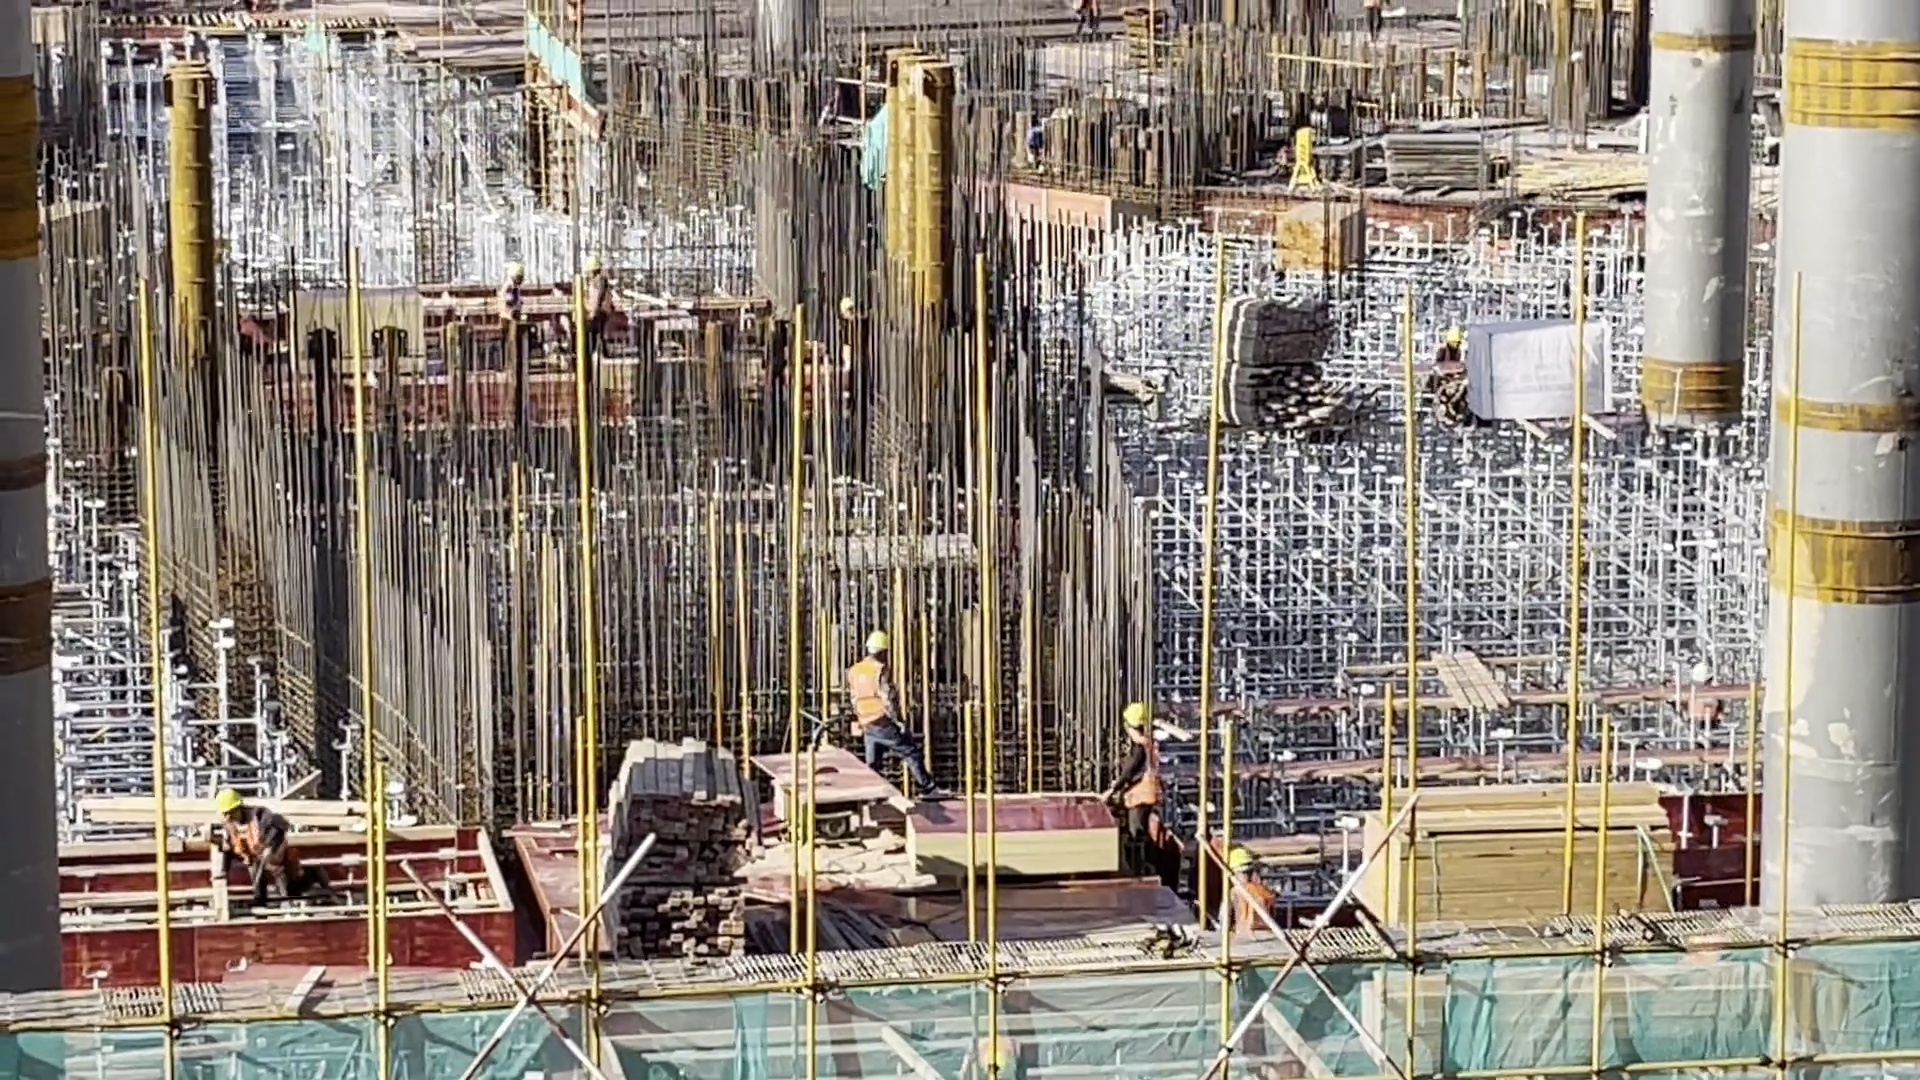board: (896, 790, 1121, 890)
ebox: (1281, 128, 1328, 194)
helmet: (214, 786, 250, 817), (1121, 703, 1155, 731), (859, 632, 895, 655), (1228, 843, 1252, 875), (585, 255, 602, 272), (1447, 326, 1464, 342), (841, 296, 855, 311), (509, 263, 525, 276)
person: (833, 631, 934, 782), (207, 782, 299, 902), (1103, 701, 1162, 868), (585, 251, 617, 356), (498, 261, 527, 321), (1429, 320, 1464, 369), (1363, 1, 1393, 40), (1071, 1, 1104, 34)
vest: (848, 659, 889, 727), (1124, 736, 1158, 808), (587, 276, 612, 316), (498, 283, 522, 320)
wood: (1351, 776, 1681, 924), (600, 737, 754, 968), (1267, 200, 1364, 275)
